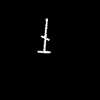double_crochet: (38, 19, 49, 52)
